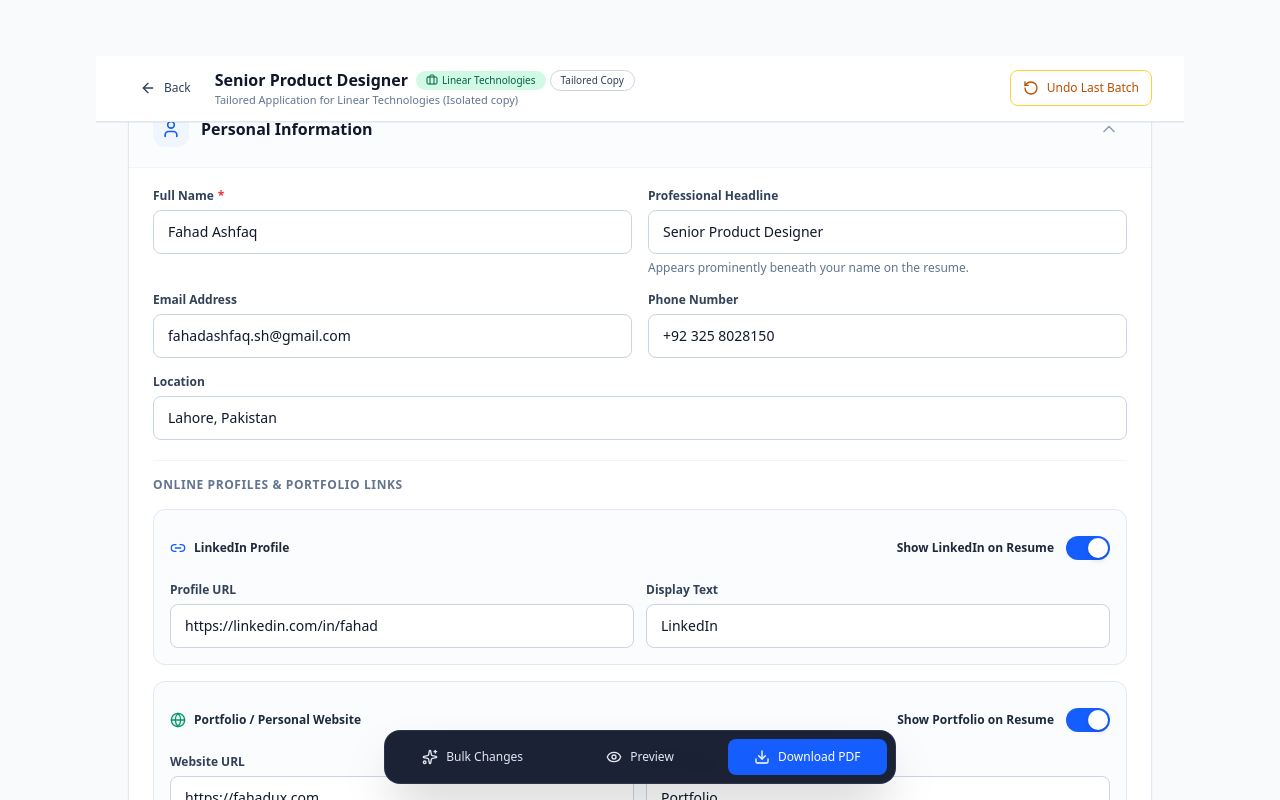
Test: Bulk Changes Integration & Review UI (Phase 5) › opens Bulk Changes modal, pastes Part 8.1 fixture, parses and displays diffs
Expected: the text "Linear Technologies" is shown, left=442, top=72, right=536, bottom=88
Click "Bulk Changes" FAB button
Step 1. Click the button "Bulk Changes" → coordinates (473, 757), box left=393, top=739, right=552, bottom=775
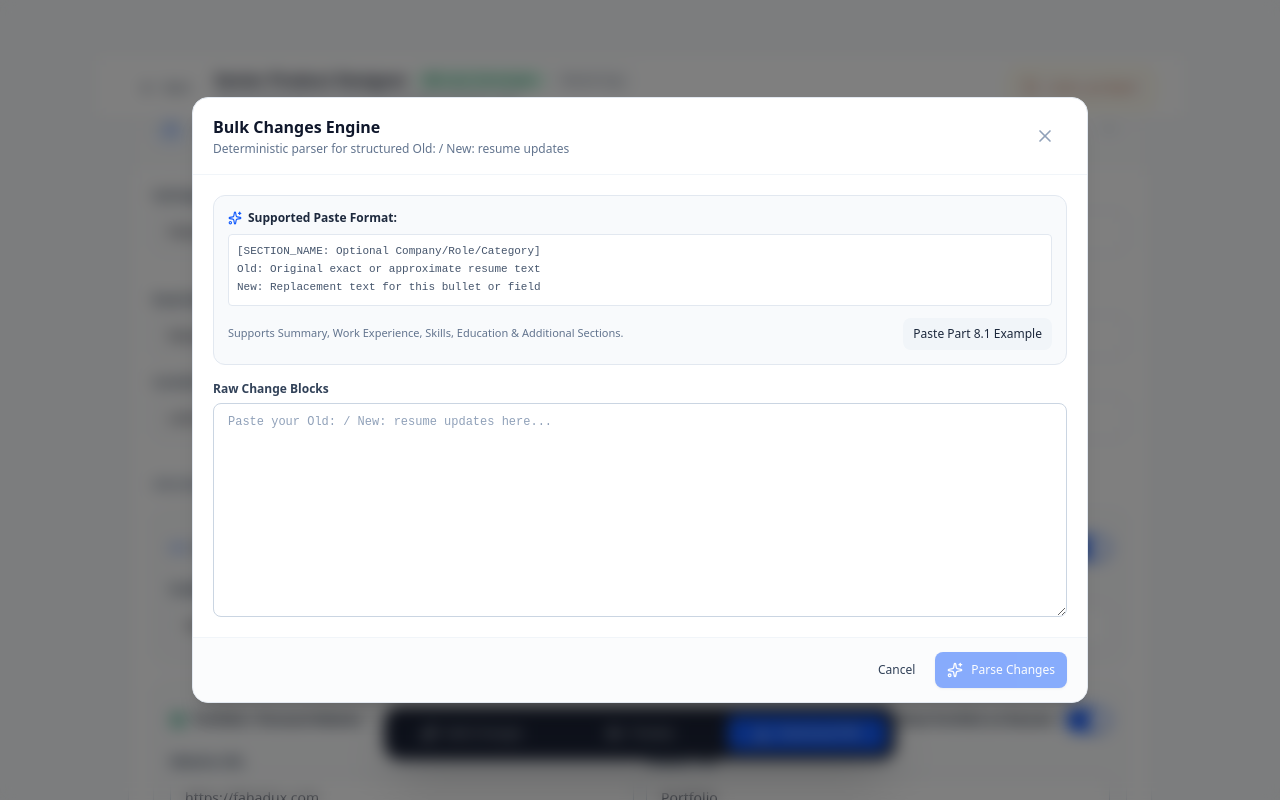
Result: the heading "Bulk Changes Engine" is shown at left=213, top=116, right=380, bottom=138
Result: the text "Supported Paste Format:" is shown at left=228, top=209, right=397, bottom=226
Click "Paste Part 8.1 Example"
Step 2. Click the button "Paste Part 8.1 Example" → coordinates (978, 334), box left=903, top=318, right=1052, bottom=350
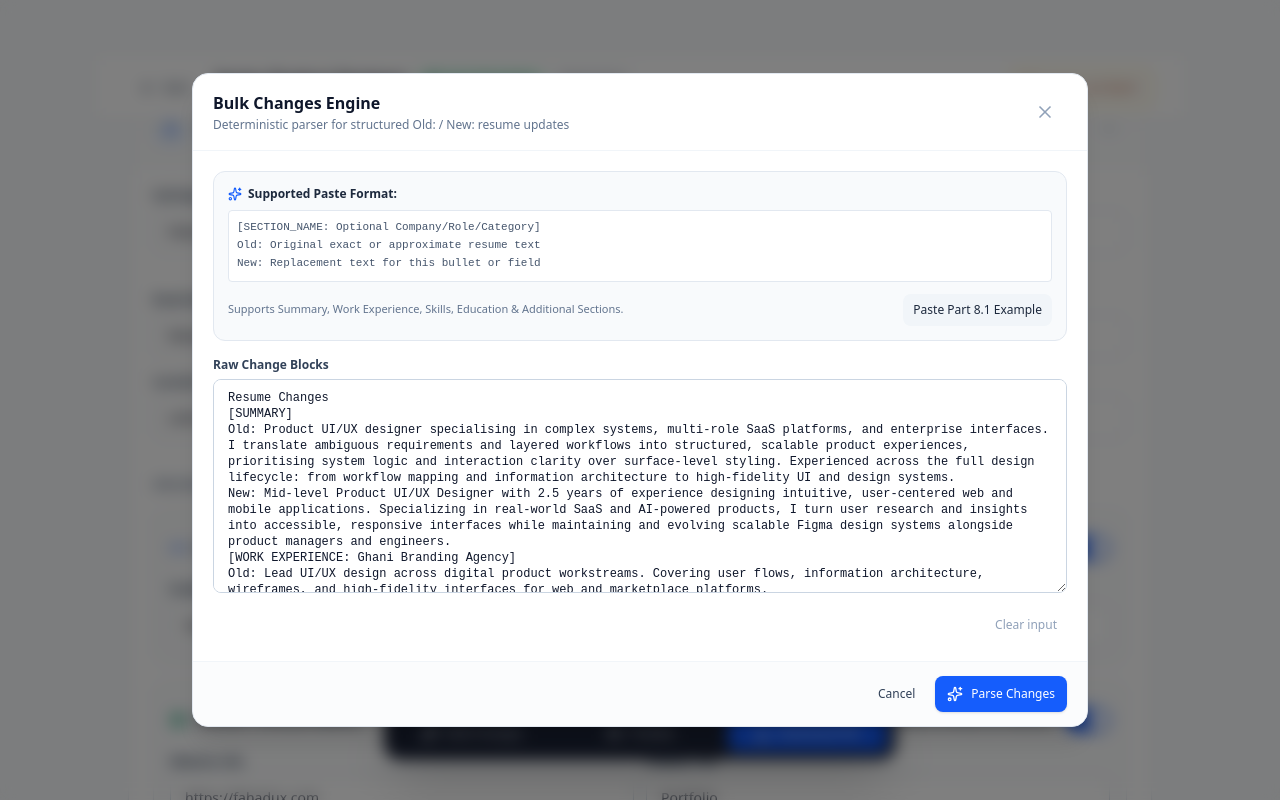
Click "Parse Changes"
Step 3. Click the button "Parse Changes" → coordinates (1001, 694), box left=935, top=676, right=1067, bottom=712
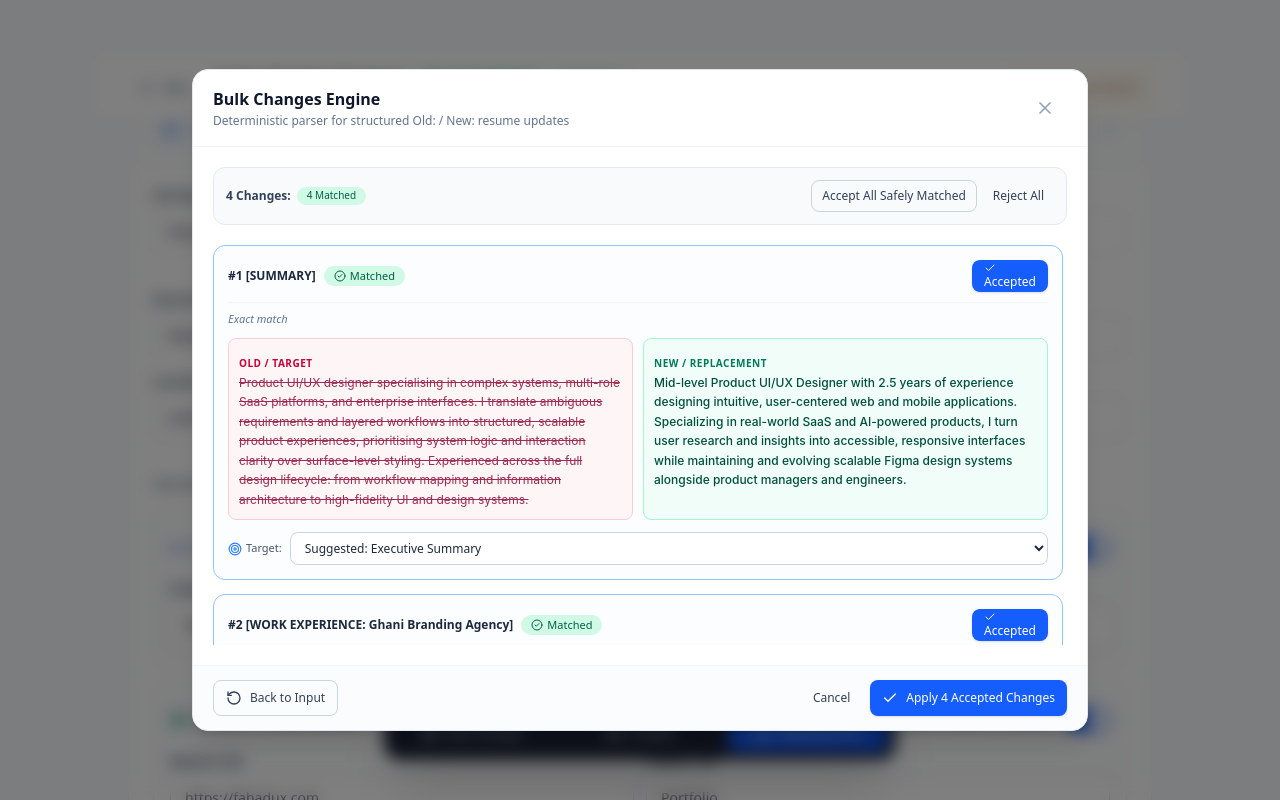
Result: the text "4 Changes:" is shown at left=226, top=188, right=291, bottom=204
Result: the text "4 Matched" is shown at left=297, top=187, right=366, bottom=205
Result: the button "Apply 4 Accepted Changes" is shown at left=870, top=680, right=1067, bottom=716
